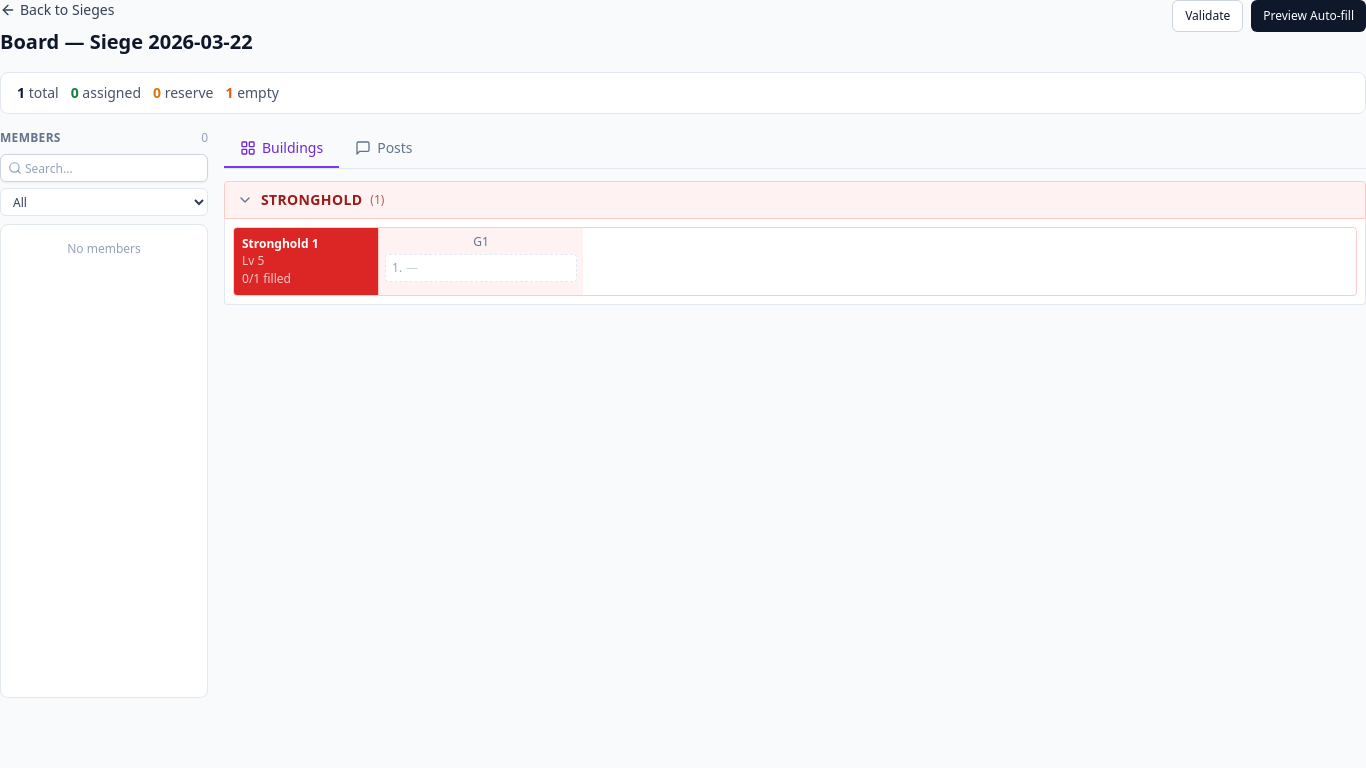
Test: BoardPage — validation dialog › renders error-severity rows with destructive badge when validate returns errors
What coordinates should you click on to do the following:
click the button "Validate"
I would click on:
 (1208, 16)
Its box is top-left (1172, 0), bottom-right (1243, 32).
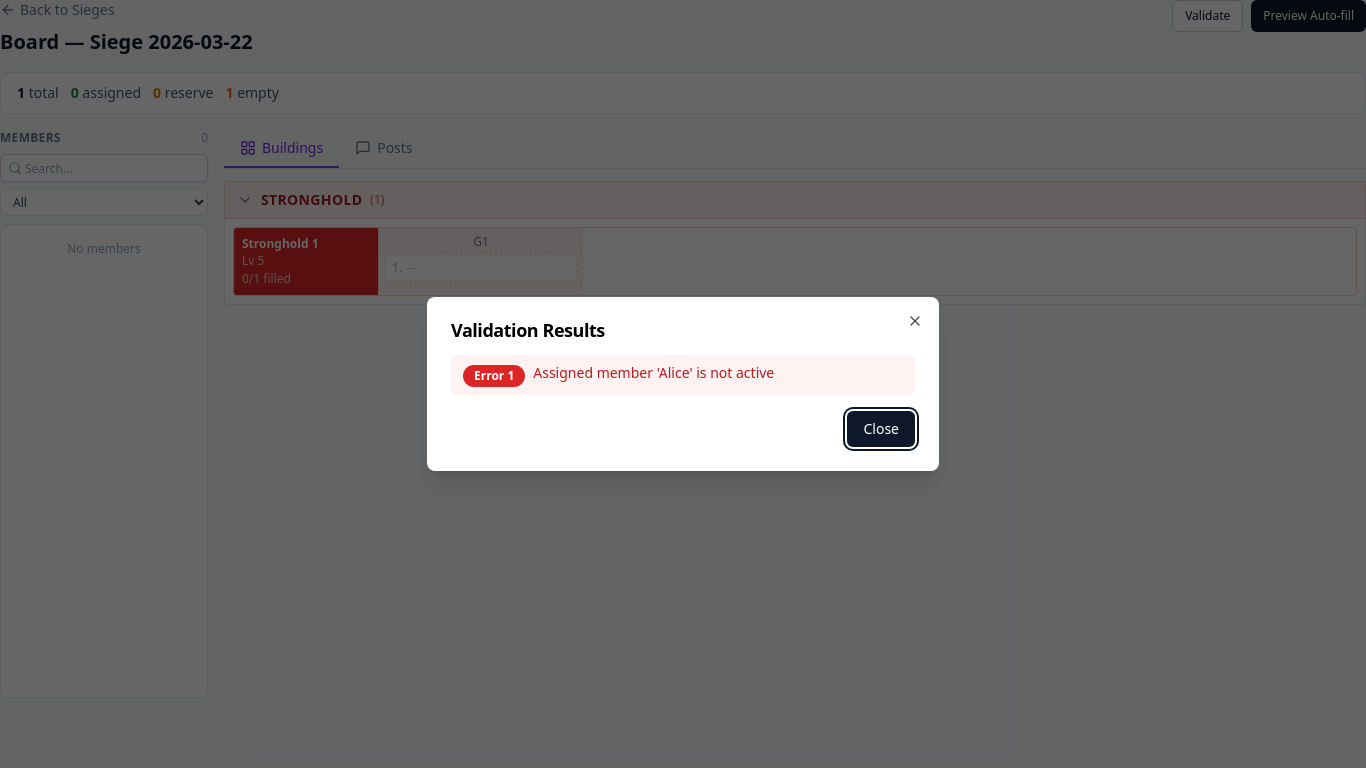
Expected: the dialog is shown, top-left (427, 297), bottom-right (939, 471)
Expected: the text "Error 1" is shown, top-left (463, 365), bottom-right (525, 387)
Expected: the text "Assigned member 'Alice' is not active" is shown, top-left (533, 363), bottom-right (774, 383)
